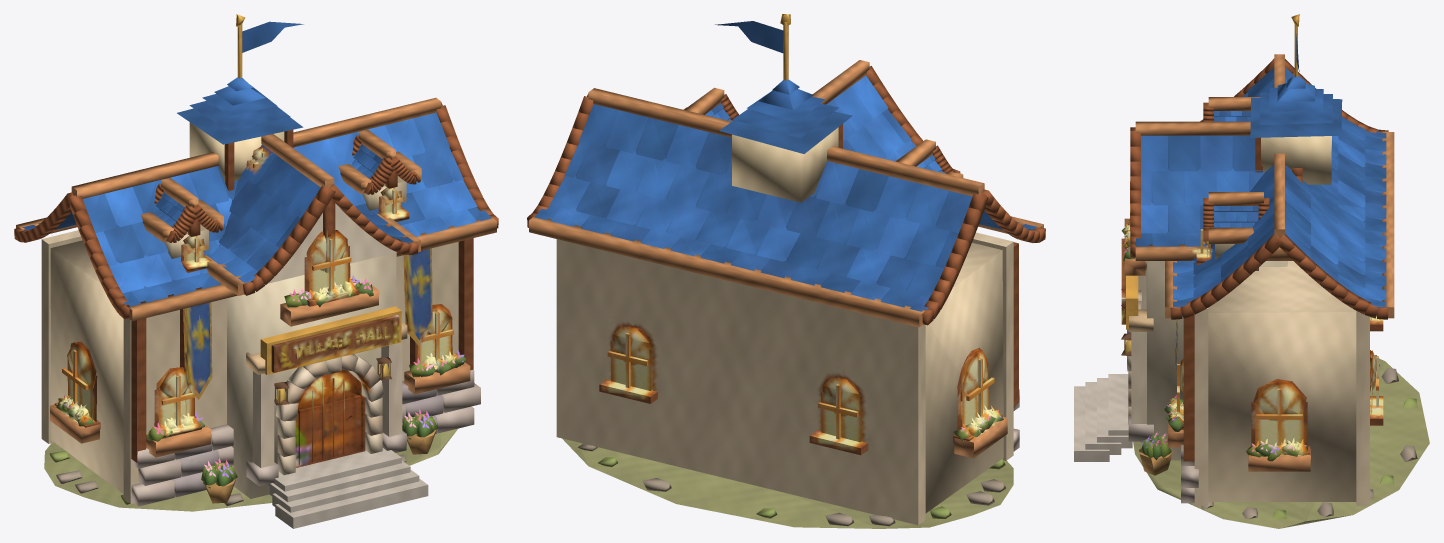
Rendered from bld_hall_blue_v02.glb.
The picture shows the model from 3 angles, left to right: view 1: azimuth 30°, elevation 25°; view 2: azimuth 150°, elevation 25°; view 3: azimuth 270°, elevation 25°; orthographic projection. The views are drawn at different scales.
Parts seen in each view (by area): view 1: Body; view 2: Body; view 3: Body.
Part boxes in pixels (x1,y1,x2,y2): Body: [14, 14, 498, 528]; Body: [527, 14, 1045, 528]; Body: [1074, 14, 1429, 528].
Bounding box in the file's own units: 6.01 × 6.01 × 4.68.
1 material, 1 textured.
